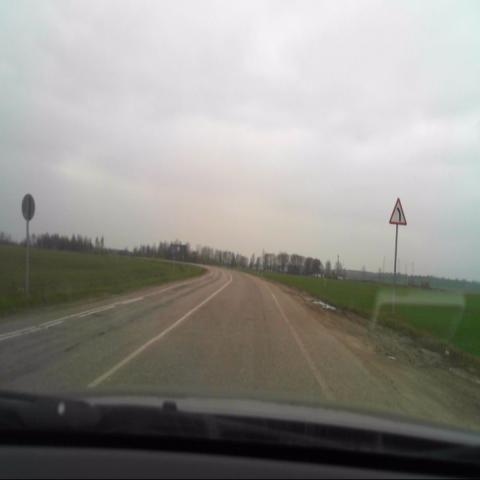1_11_1: (388, 196, 407, 226)
